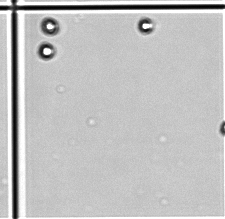Living Cell: (40, 17, 60, 35), (38, 42, 56, 60), (137, 17, 155, 34)
